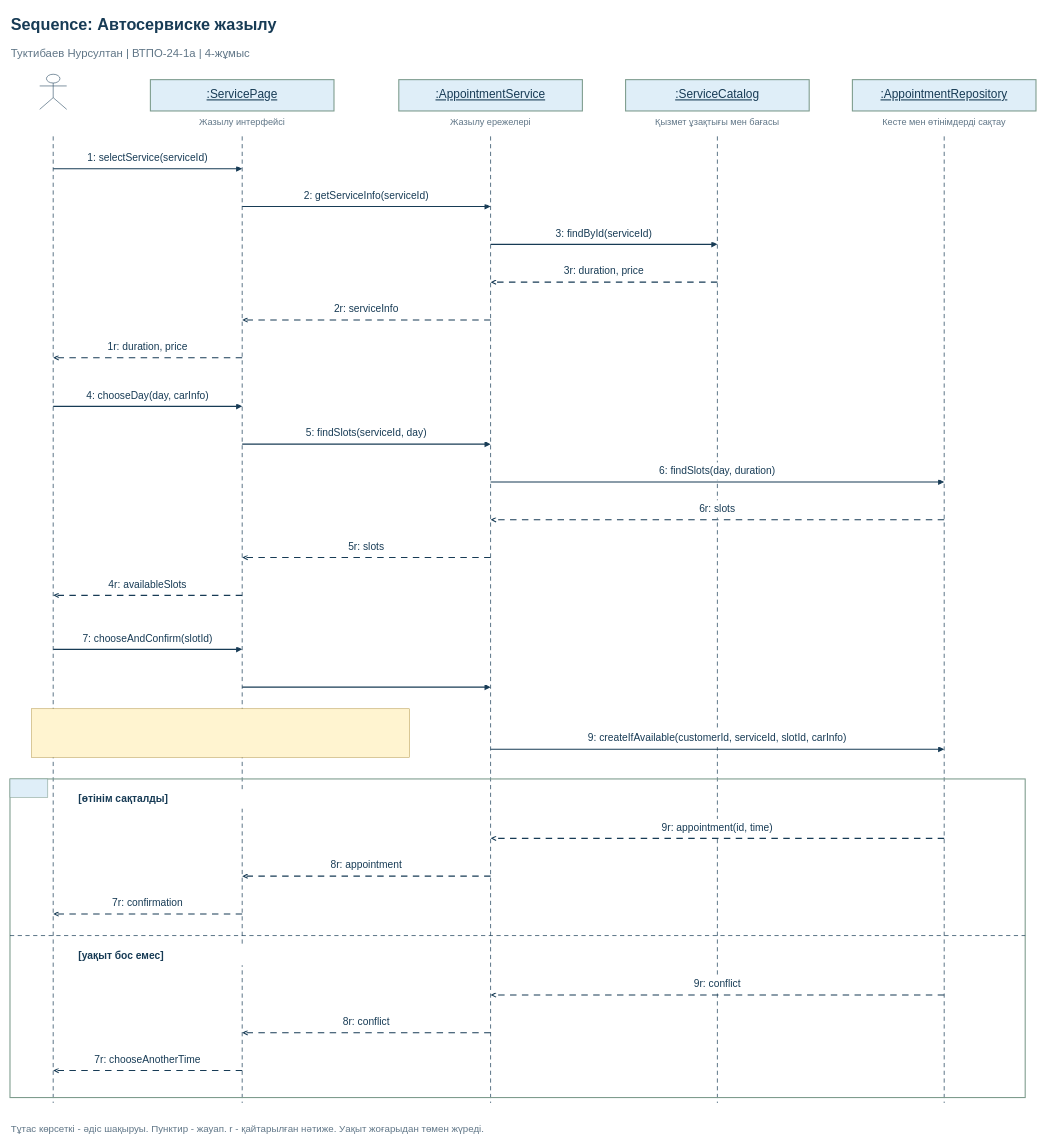
Some shapes in this 1053 by 1147 pixel diagram are drawn without their labels. The shapes that lost their labels are listed below. From the top down, each one's centre as x and y in pixels, then its label:
At (53,91): "Клиент".
At (366,669): "8: book(customerId, serviceId, slotId, carInfo)".
At (220,732): "Бос орынды қайта тексеру және сақтау бір транзакцияда орындалады.".
At (28,787): "alt".
